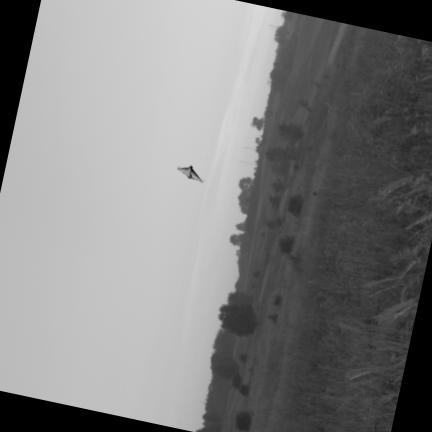Shahed: (178, 165, 203, 181)
